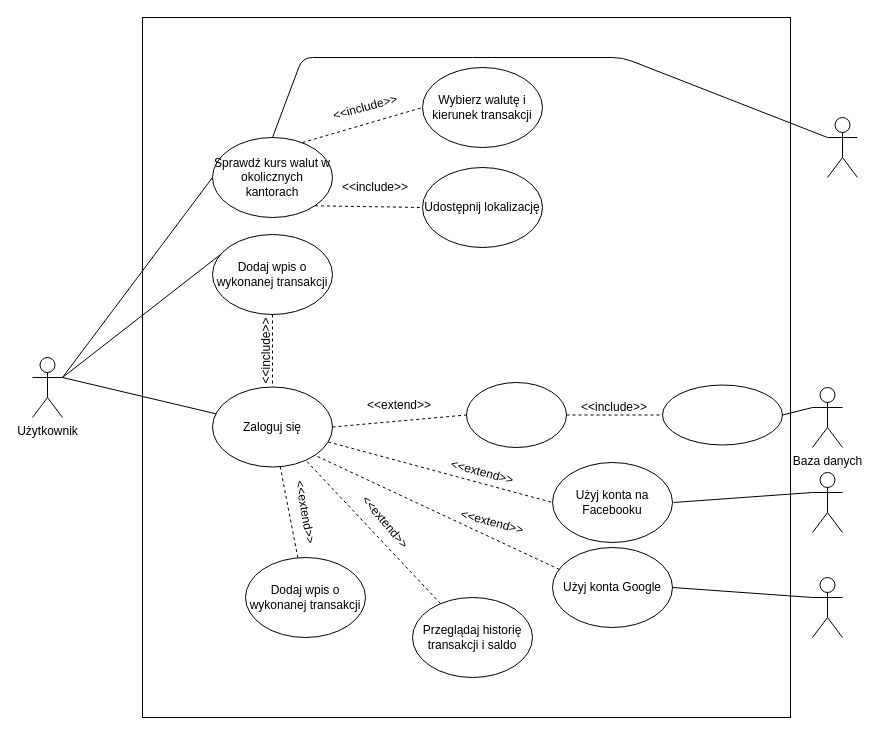
Image size: 887x735. Some labels were removed from this diagram. Here are the shapes that lost their labels. From the top down, the box of each, then its label:
(826, 116, 858, 178): Quantor.pl
(466, 382, 566, 448): Załóż konto
(662, 384, 782, 445): Wprowadź dane użytkownika
(812, 472, 842, 532): Facebook
(812, 576, 842, 638): Google
